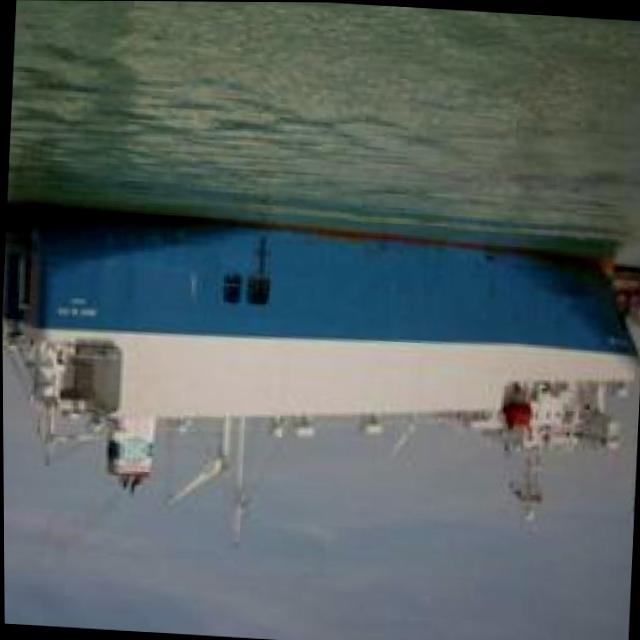ship2: (2, 201, 640, 546)
